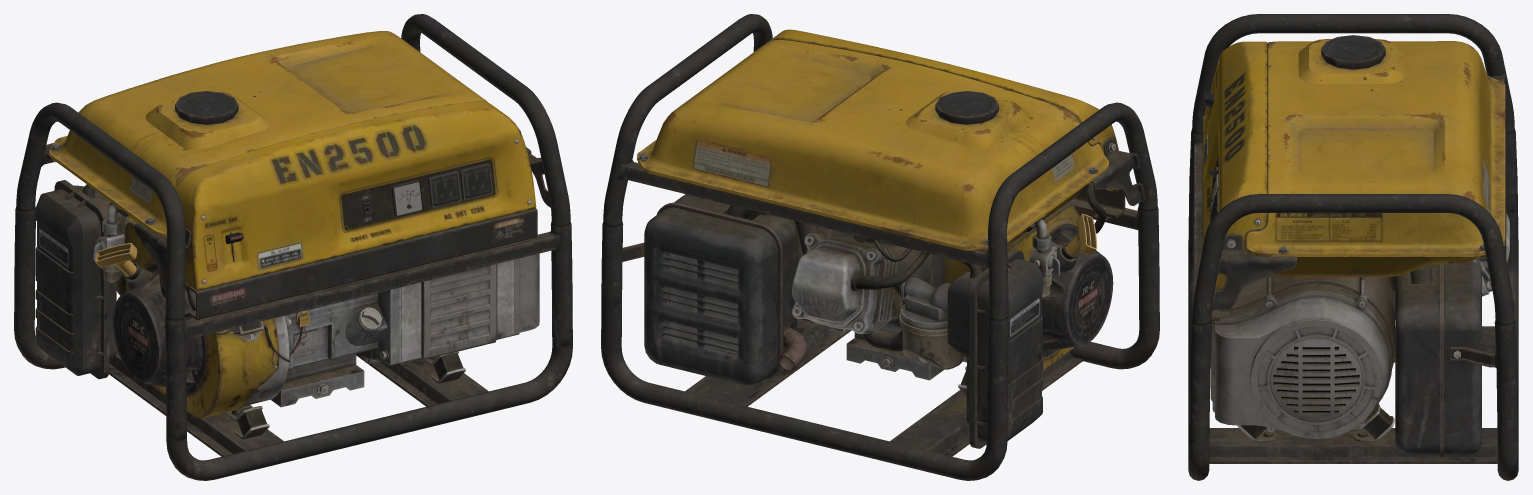
File: generator.glb
3 renders of one model, left to right at view 1: azimuth 30°, elevation 25°; view 2: azimuth 150°, elevation 25°; view 3: azimuth 270°, elevation 25°, orthographic.
Visible parts, largest first — view 1: portable_generator; view 2: portable_generator; view 3: portable_generator.
Part boxes in pixels (<box>): portable_generator: <box>14,14,572,480</box>; portable_generator: <box>601,14,1159,480</box>; portable_generator: <box>1188,14,1518,480</box>.
Size of the model in its own units: 0.8183 by 0.577 by 0.564.
Materials: 2 (2 with a texture image).
